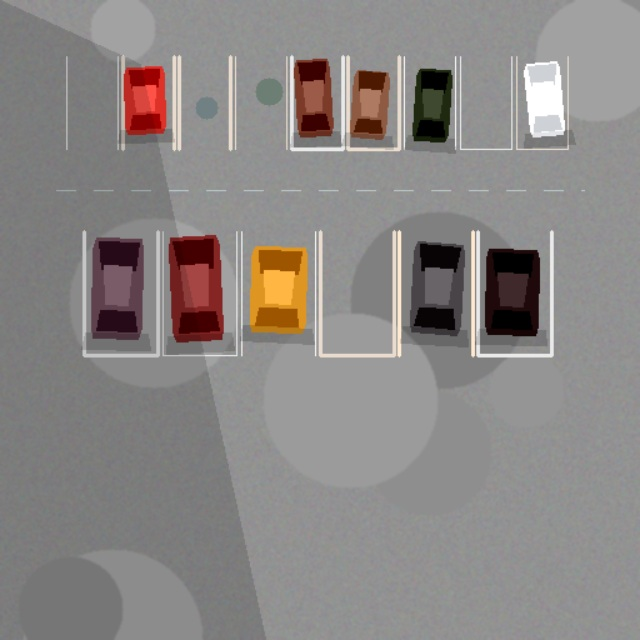space-empty: (320, 231, 394, 355), (66, 56, 118, 149), (179, 56, 230, 149), (235, 56, 286, 149), (460, 56, 511, 149)
space-occupied: (84, 231, 158, 355), (162, 231, 236, 355), (241, 231, 315, 355), (399, 231, 472, 355), (478, 231, 551, 355), (122, 56, 174, 149), (516, 56, 568, 149), (291, 56, 342, 149), (348, 56, 399, 149), (404, 56, 455, 149)
